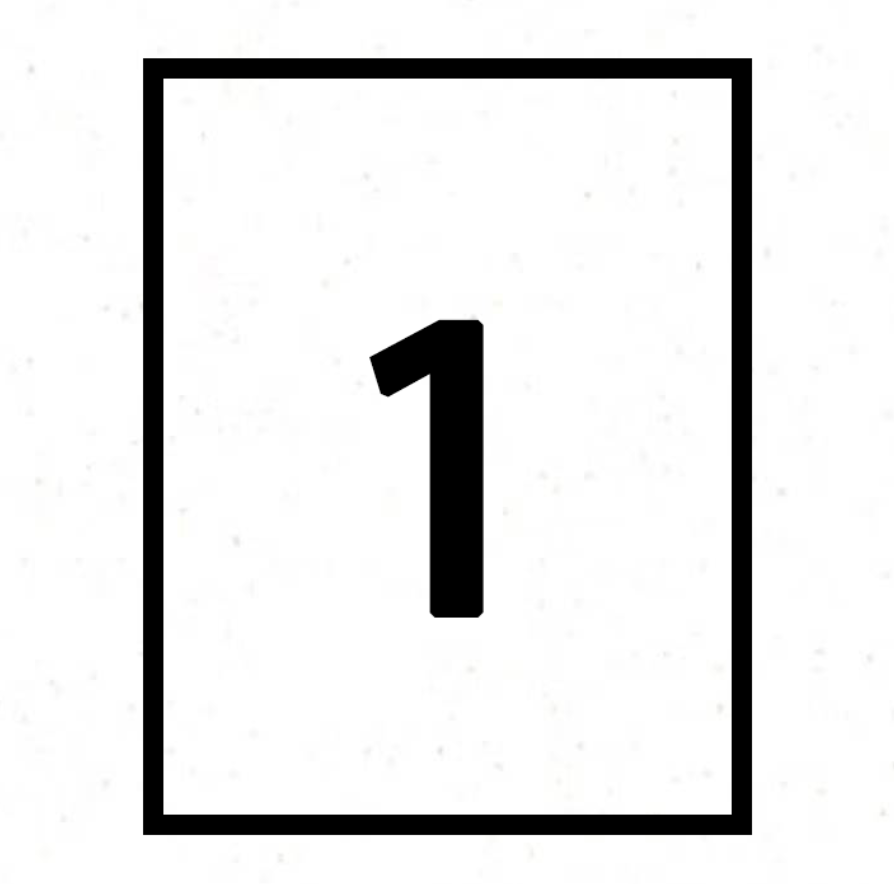one: (284, 239, 630, 688)
